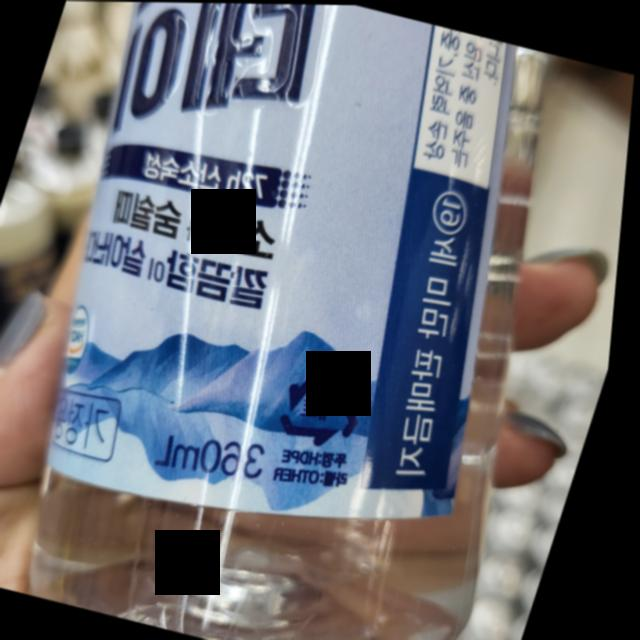PET: (274, 353, 384, 455)
